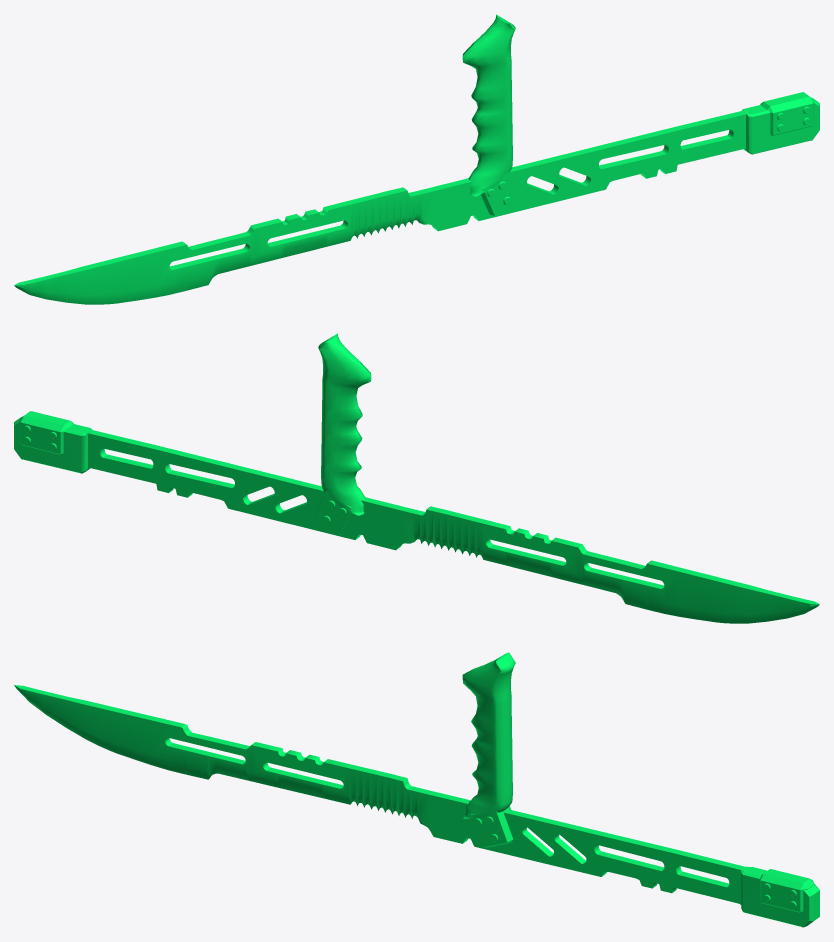
The model's file is Empathic_blade.fbx.
3 renders of one model, top to bottom at view 1: azimuth 30°, elevation 25°; view 2: azimuth 150°, elevation 25°; view 3: azimuth 330°, elevation 25°, orthographic.
Parts seen in each view (by area): view 1: polySurface44; view 2: polySurface44; view 3: polySurface44.
Part boxes in pixels (box(x1,y1,x2,y2)): polySurface44: box(14, 14, 819, 304); polySurface44: box(14, 333, 819, 623); polySurface44: box(14, 652, 819, 927).
Bounding box in the file's own units: 386 × 89.32 × 11.92.
